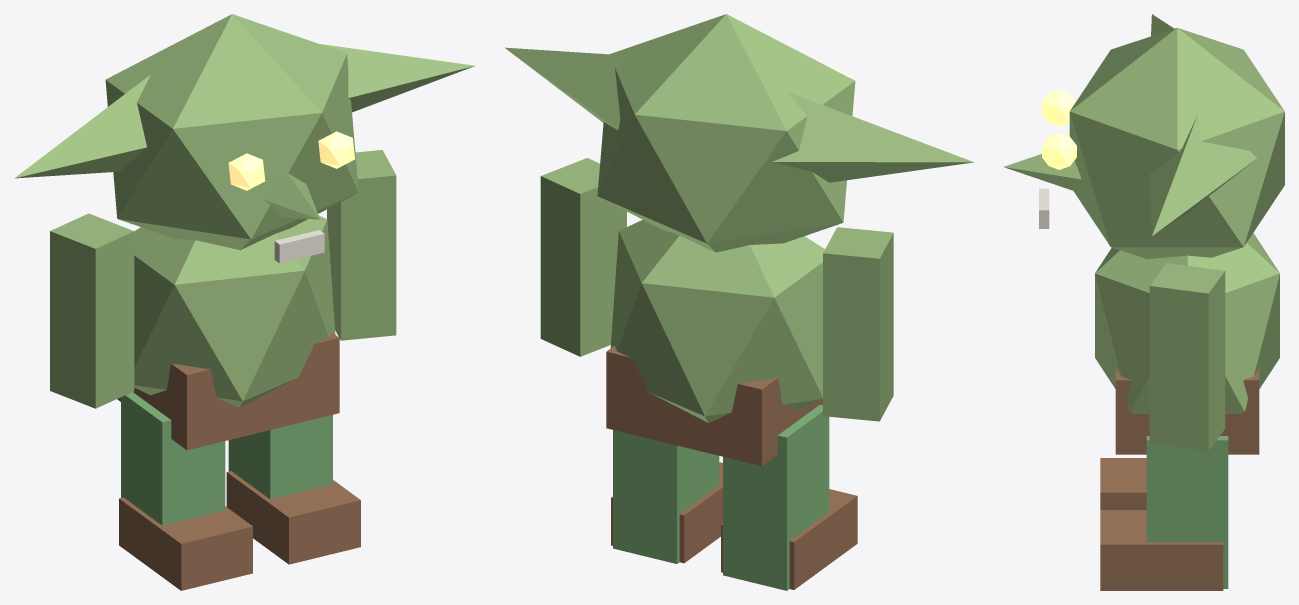
Rendered from goblin.glb.
3 views of the same model, side by side, from view 1: azimuth 30°, elevation 25°; view 2: azimuth 150°, elevation 25°; view 3: azimuth 270°, elevation 25° (orthographic). The views are drawn at different scales.
Parts seen in each view (by area): view 1: head.001, body, arm_l.001, arm_r.001, loincloth, leg_l.001, foot_l, foot_r, leg_r.001, ear_l, ear_r, nose (+3 smaller); view 2: head.001, body, arm_r.001, arm_l.001, leg_l.001, loincloth, leg_r.001, ear_l, ear_r, foot_l, foot_r; view 3: head.001, body, arm_r.001, leg_r.001, foot_r, ear_r, loincloth, foot_l, nose, eye_r.001, eye_l.001, tooth.
Part boxes in pixels (x1,y1,x2,y2): head.001: (105, 14, 358, 250); body: (134, 215, 335, 407); arm_l.001: (50, 213, 134, 408); arm_r.001: (327, 150, 396, 340); loincloth: (117, 332, 339, 450); leg_l.001: (121, 392, 225, 525); foot_l: (119, 497, 252, 590); foot_r: (226, 471, 360, 564); leg_r.001: (228, 415, 332, 499); ear_l: (15, 74, 150, 178); ear_r: (320, 44, 475, 112); nose: (262, 171, 320, 219); head.001: (597, 14, 855, 252); body: (610, 220, 824, 422); arm_r.001: (540, 158, 626, 356); arm_l.001: (823, 227, 893, 421); leg_l.001: (723, 404, 829, 590); loincloth: (606, 346, 822, 465); leg_r.001: (613, 430, 719, 563); ear_l: (772, 91, 973, 182); ear_r: (505, 47, 640, 129); foot_l: (721, 489, 857, 589); foot_r: (611, 462, 722, 563); head.001: (1069, 27, 1284, 258); body: (1095, 233, 1279, 413); arm_r.001: (1149, 263, 1225, 451); leg_r.001: (1146, 436, 1228, 588); foot_r: (1100, 510, 1223, 590); ear_r: (1149, 114, 1256, 235); loincloth: (1115, 368, 1259, 454); foot_l: (1100, 458, 1146, 509); nose: (1004, 154, 1081, 192); eye_r.001: (1042, 133, 1076, 169); eye_l.001: (1042, 89, 1075, 126); tooth: (1039, 188, 1049, 228).
Bounding box in the file's own units: 1.03 × 1.12 × 0.5501.
